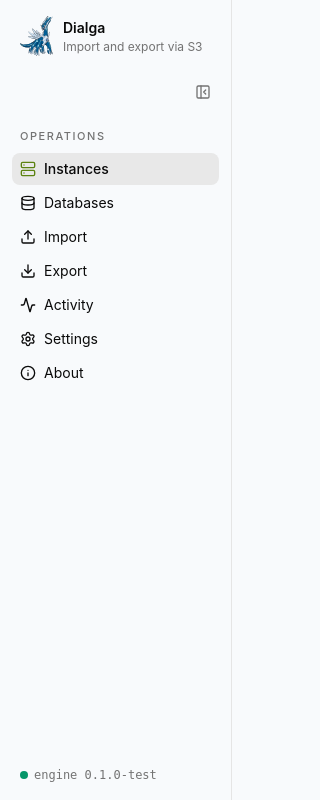
Sidebar › collapse › renders and toggles when the storage throws
Click the button named "sidebar" at (203, 92), box [187, 76, 219, 108]
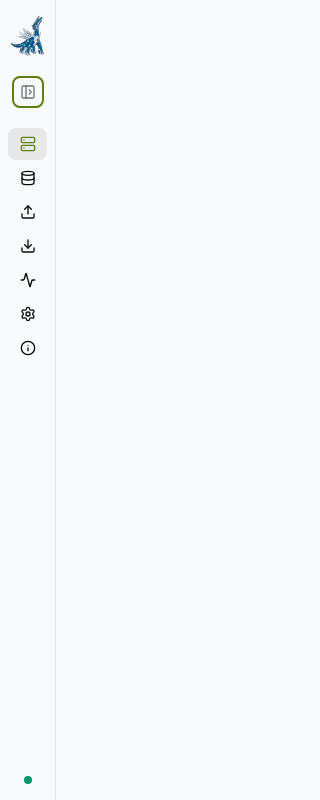
Now the button named "sidebar" is collapsed, box [12, 76, 44, 108]
